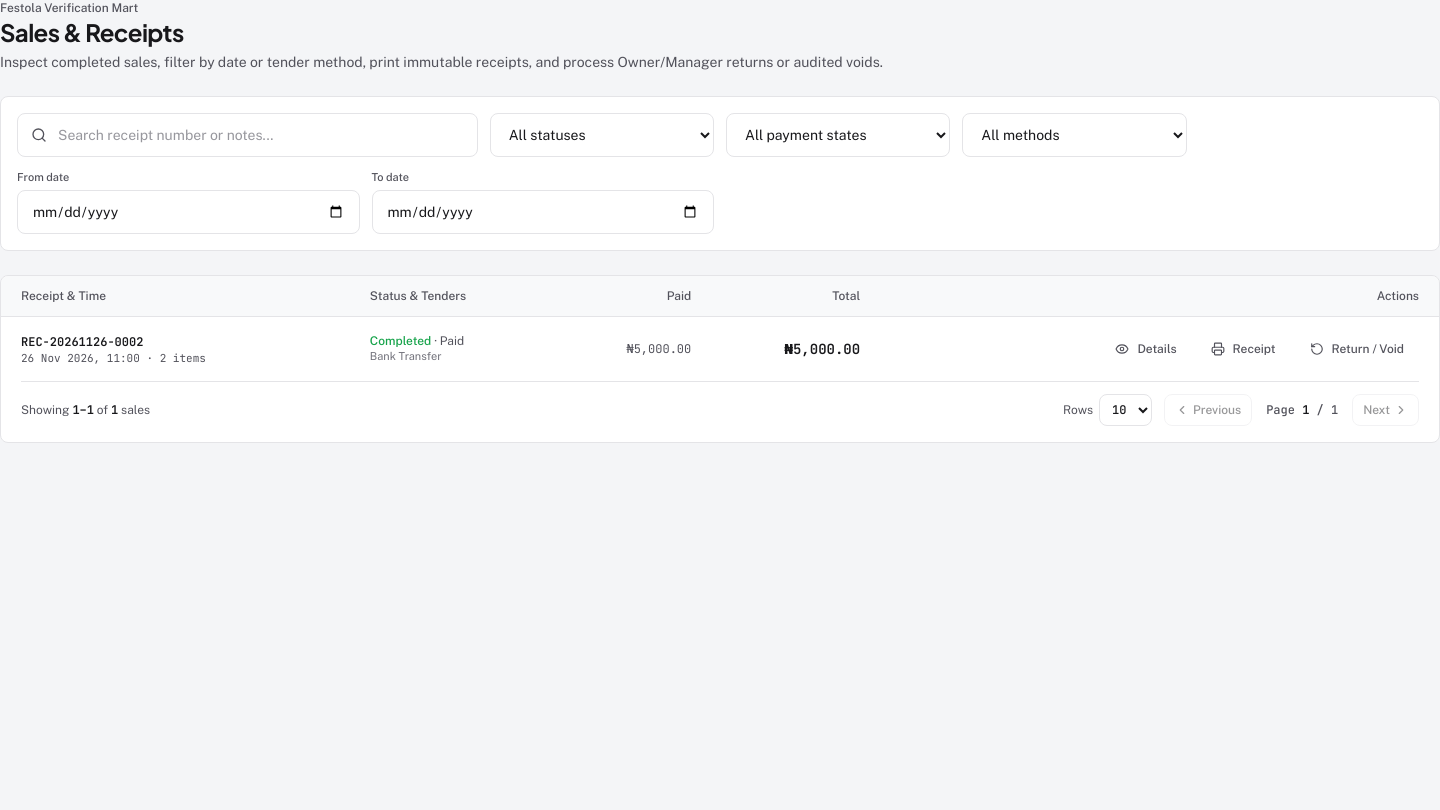
POS & Sales UI Verification › opens Sale Detail modal, applies paymentMethod filter, and submits multi-item return in SalesPage
Later steps or results of the test are not shown.
Expected: the text "REC-20261126-0002" is shown, [21,334,143,350]
Select "Bank Transfer" in the dropdown named "Filter by payment method" at (1074, 135), box [962,113,1187,157]
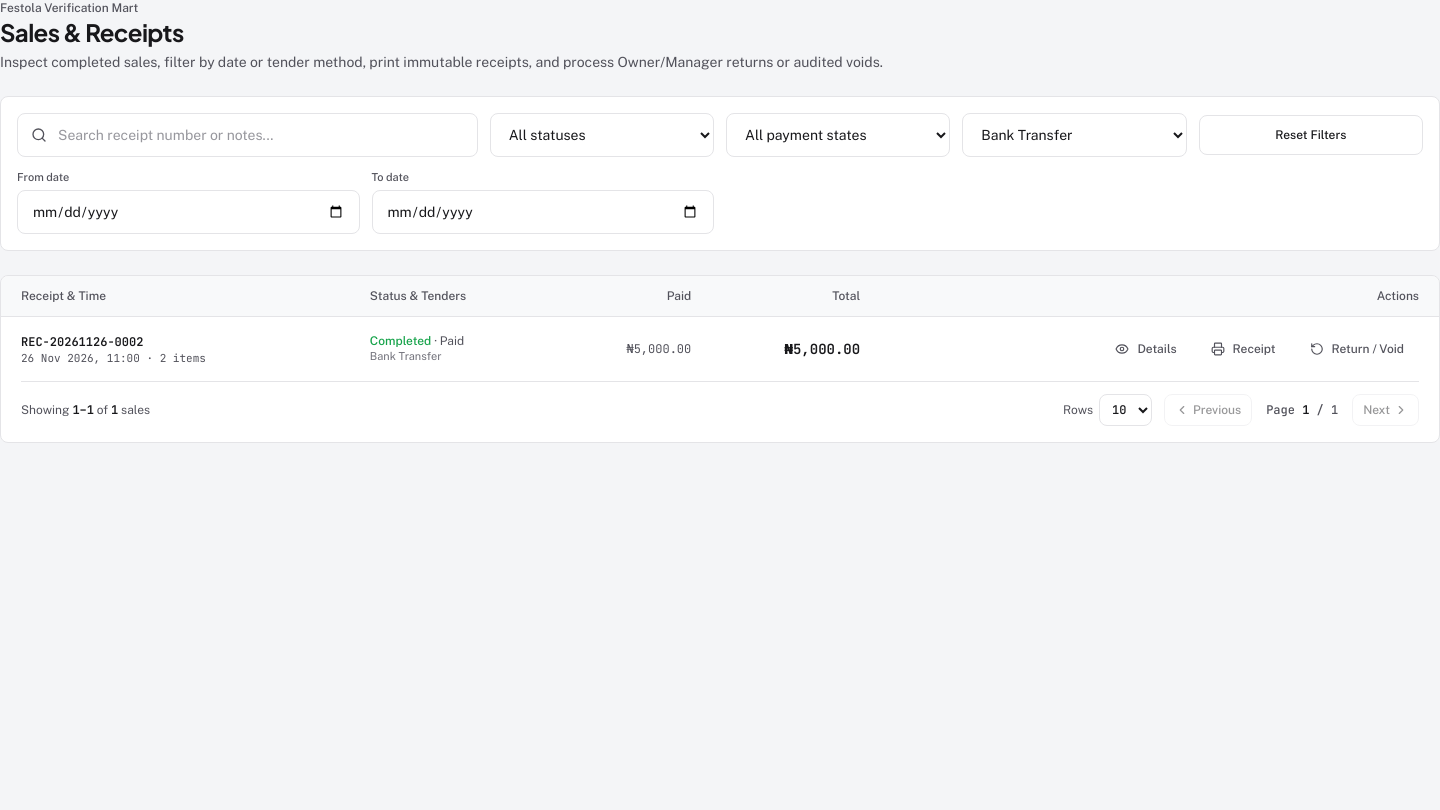
# Open Sale Detail modal
Click the button "Details" at (1146, 348), box [1100,328,1192,368]
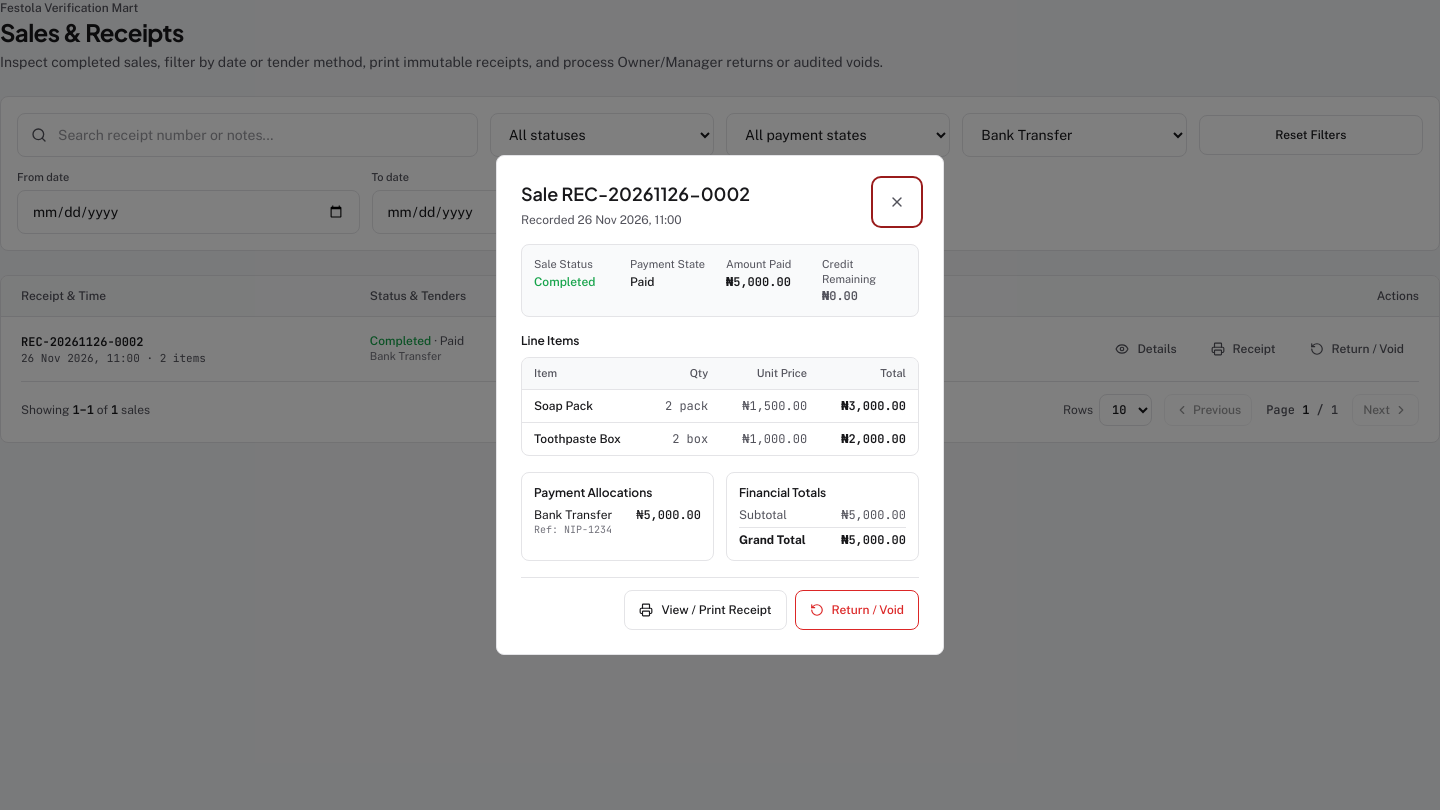
Expected: the heading "Payment Allocations" is shown, [534,485,652,500]
Expected: the text "Ref: NIP-1234" is shown, [534,523,612,536]
# Open Return / Void modal from Detail modal and enter multi-item return quantities
Click the button "Return / Void" at (857, 610), box [794,590,919,630]
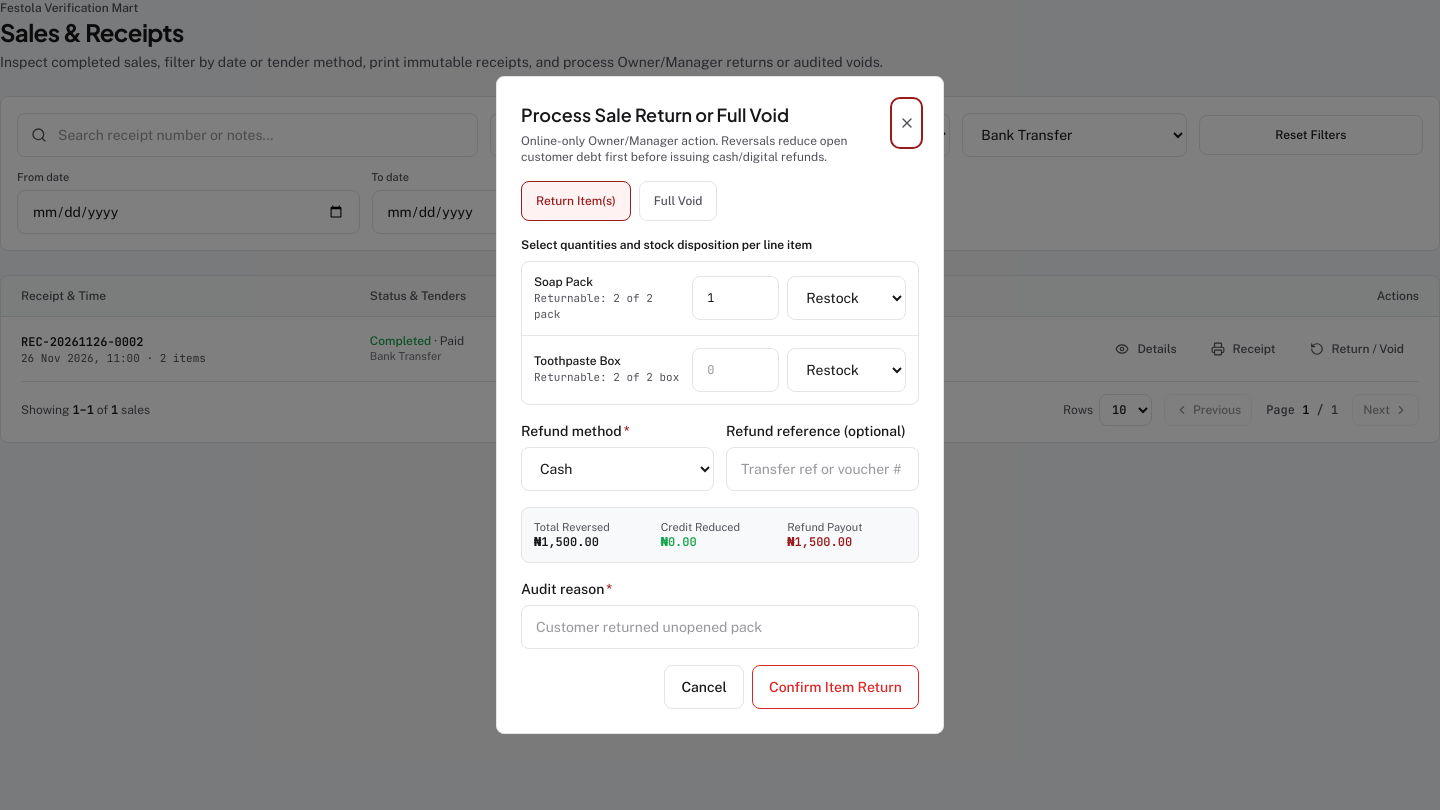
Expected: the heading "Process Sale Return or Full Void" is shown, [521,103,789,126]
